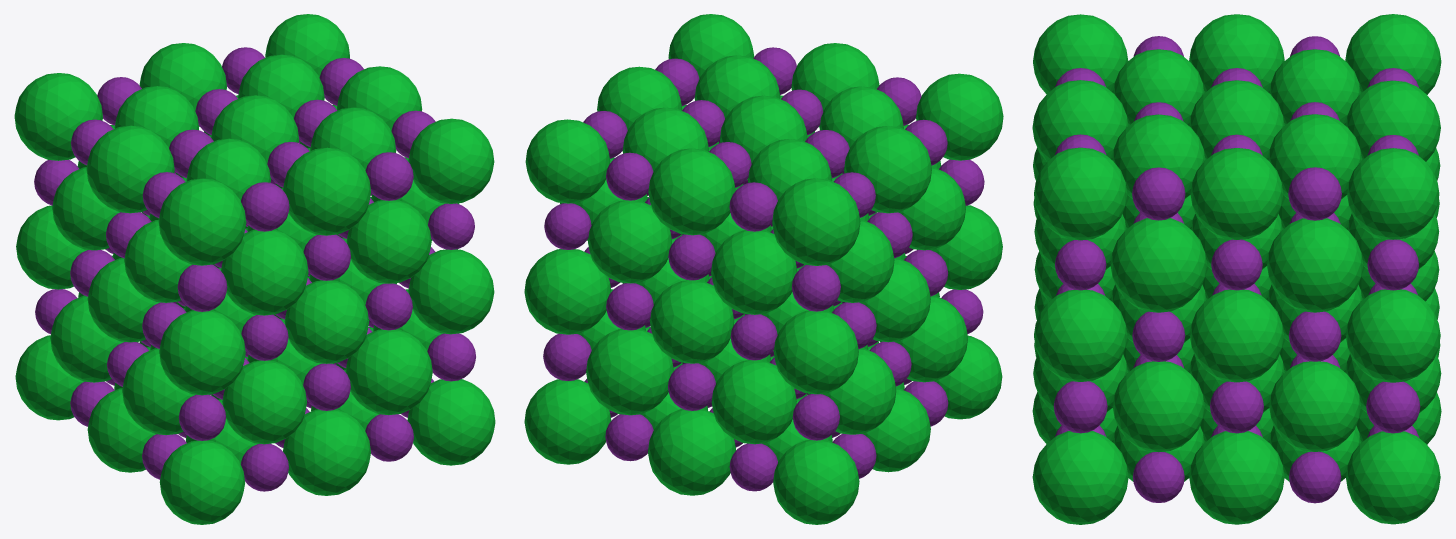
Rendered from lithium_chloride.glb.
3 views of the same model, side by side, from view 1: azimuth 30°, elevation 25°; view 2: azimuth 150°, elevation 25°; view 3: azimuth 270°, elevation 25° (orthographic). The views are drawn at different scales.
Visible parts, largest first — view 1: LiCl_Chloride_Green, LiCl_Lithium_Purple; view 2: LiCl_Chloride_Green, LiCl_Lithium_Purple; view 3: LiCl_Chloride_Green, LiCl_Lithium_Purple.
Boxes of the visible parts, <box> form: LiCl_Chloride_Green: <box>14,14,495,524</box>; LiCl_Lithium_Purple: <box>34,47,475,491</box>; LiCl_Chloride_Green: <box>524,14,1003,524</box>; LiCl_Lithium_Purple: <box>543,47,984,491</box>; LiCl_Chloride_Green: <box>1032,14,1441,524</box>; LiCl_Lithium_Purple: <box>1053,36,1420,503</box>.
Size of the model in its own units: 1.69 by 1.69 by 1.69.
